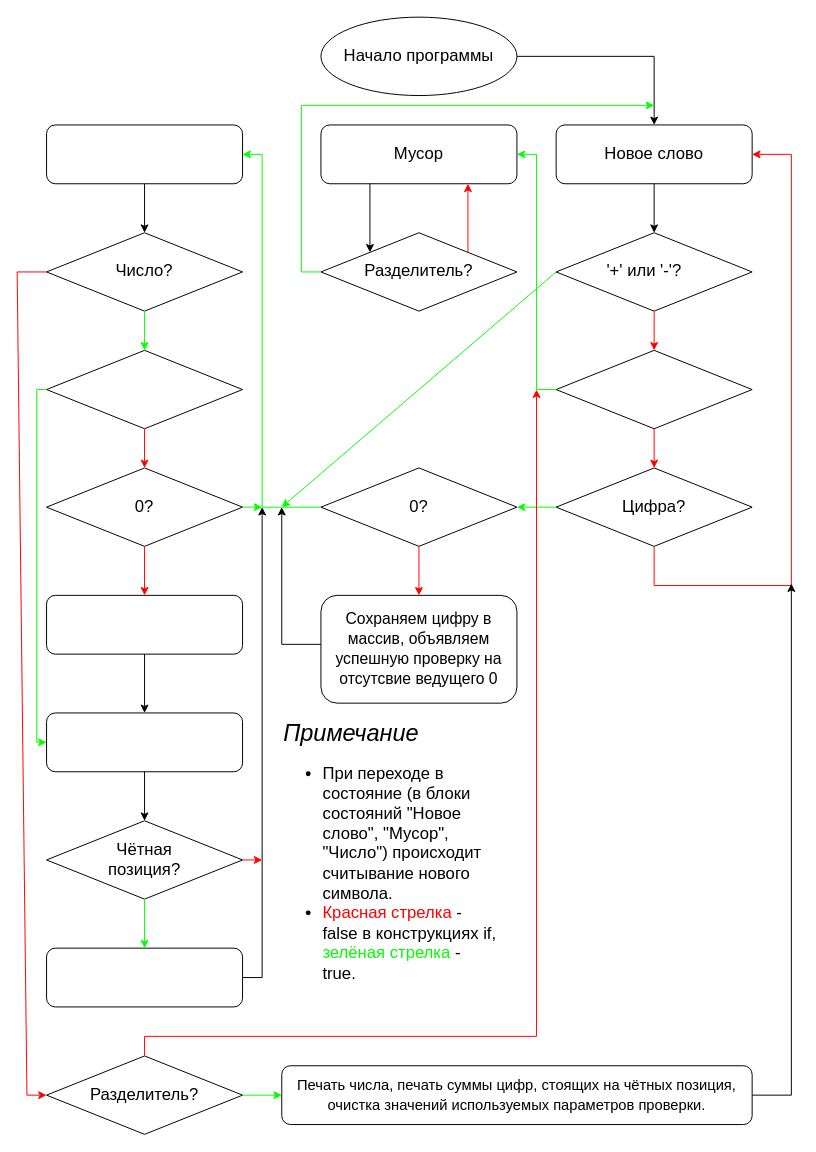
The diagram is 816 pixels wide and 1152 high, and some of its shapes have lost their labels. The box of each missing label's shape, as (x1, y1, x2, y2) in pixels:
Ведущий 0 исключён: (46, 594, 243, 654)
Добавляем в сумму: (46, 947, 243, 1007)
Записываем цифру в массив: (46, 712, 243, 772)
Не цифра и не разделитель?: (555, 349, 752, 429)
Проверка отсутствия 0 прошла?: (46, 349, 243, 429)
Число: (46, 124, 243, 184)
